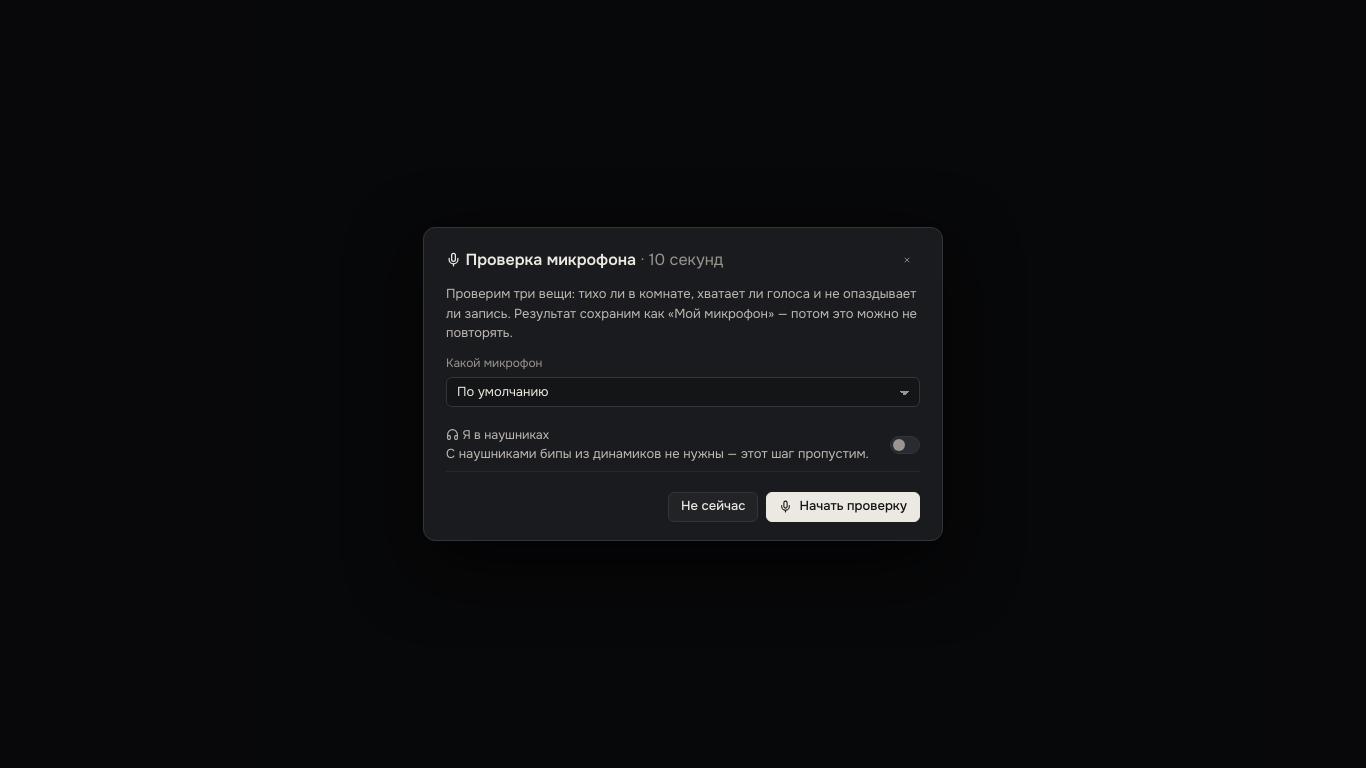
Test case: мастер проверки микрофона › без наушников меряет задержку бипами и записывает её в настройки
The width and height of the screenshot is (1366, 768).
Click the button "Начать проверку" at (843, 507), box [766, 492, 920, 522]
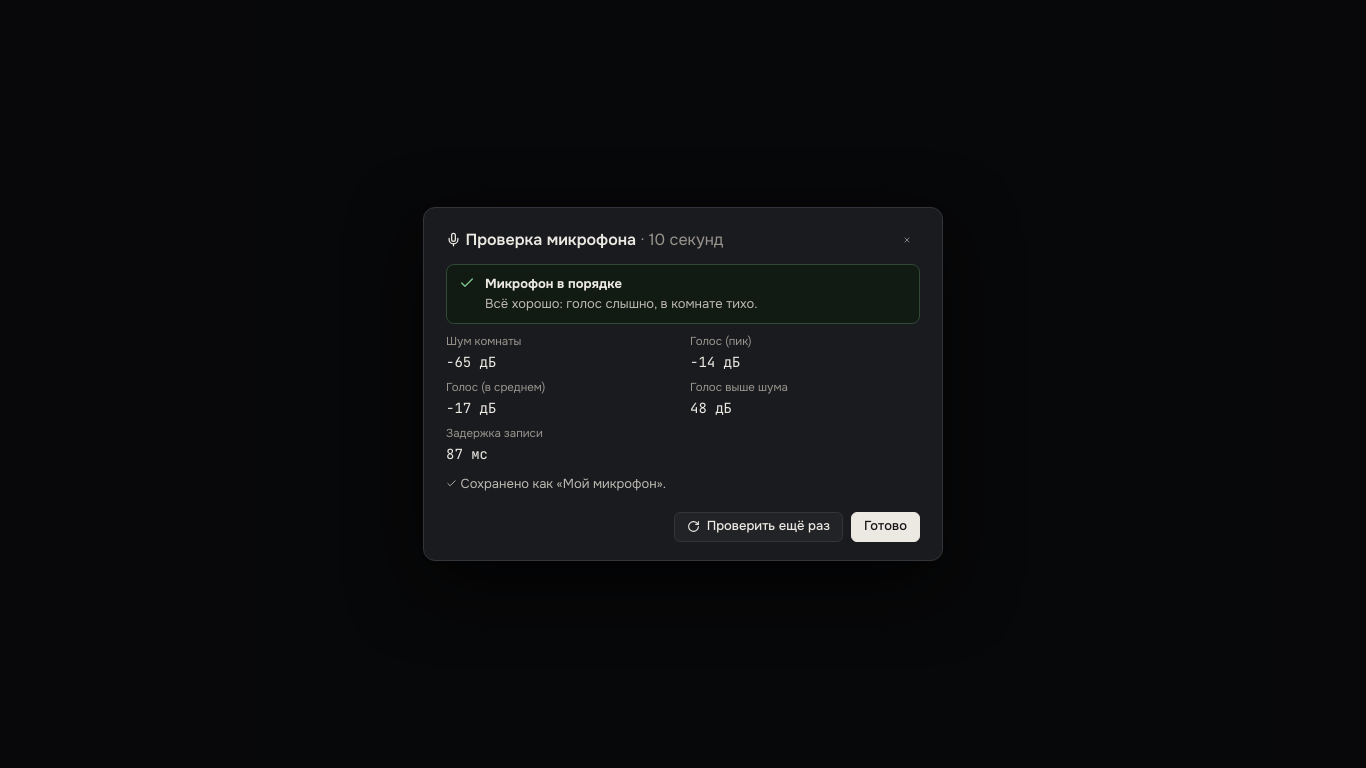
Expected: the element with test id "mic-result" shows "87 мс", [446, 445, 488, 463]
